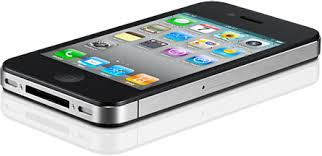iphone: (1, 1, 322, 130)
iphone4: (1, 1, 322, 130)
